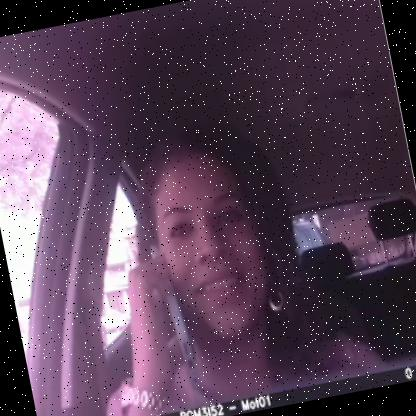phone: (129, 233, 214, 403)
